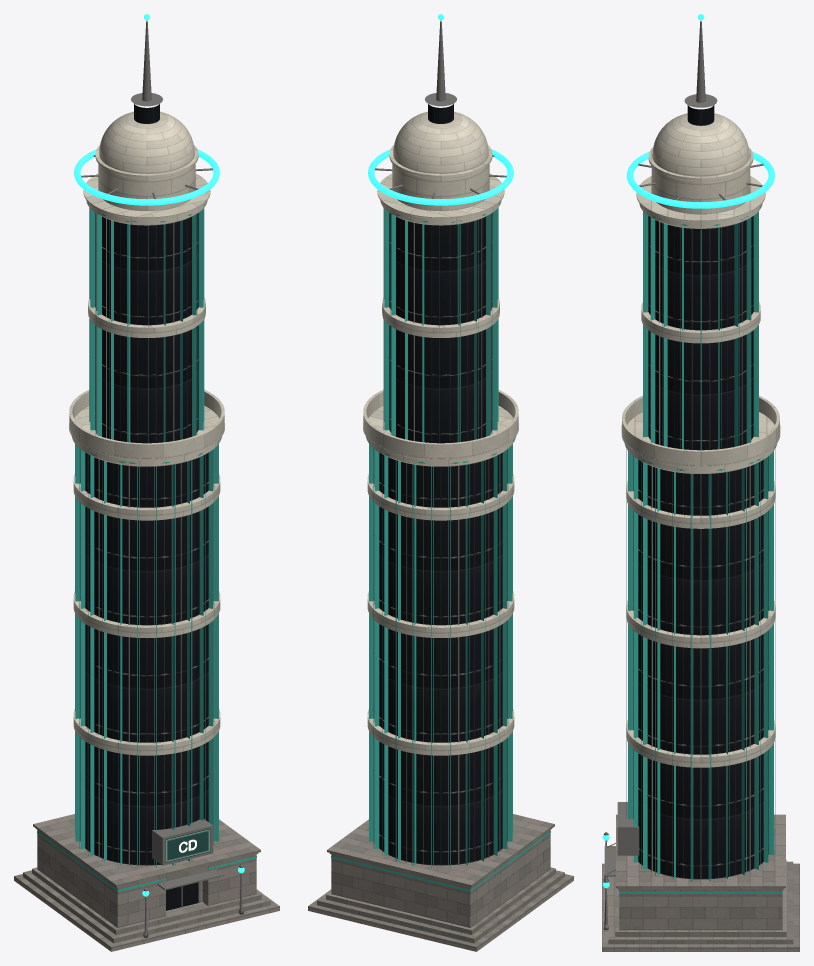
The model's file is climate-dao.glb.
3 renders of one model, left to right at view 1: azimuth 30°, elevation 25°; view 2: azimuth 150°, elevation 25°; view 3: azimuth 270°, elevation 25°, orthographic.
Visible parts, largest first — view 1: Landmark · Climate DAO; view 2: Landmark · Climate DAO; view 3: Landmark · Climate DAO.
Boxes of the visible parts, box(x1,y1,x2,y2) form: Landmark · Climate DAO: box(14, 14, 279, 951); Landmark · Climate DAO: box(308, 14, 573, 951); Landmark · Climate DAO: box(602, 14, 799, 951).
Size of the model in its own units: 12 by 60 by 12.
Materials: 7 (4 with a texture image).
